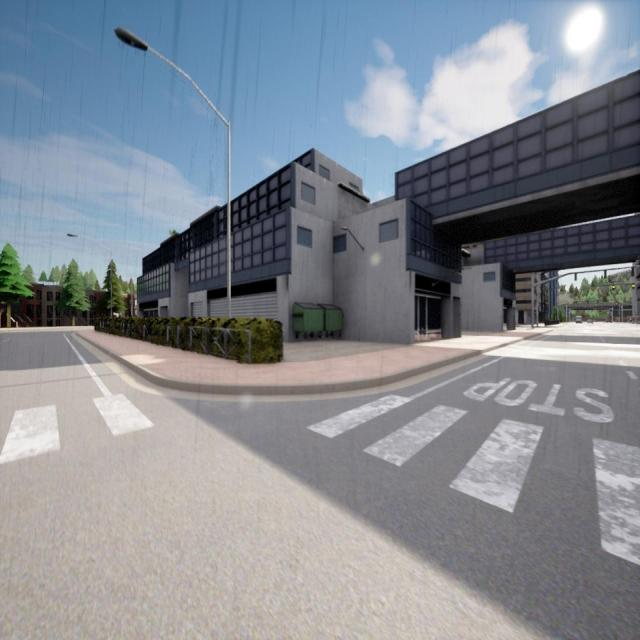Vehicle: (575, 316, 582, 324), (587, 318, 594, 324)
traffic_light: (631, 267, 634, 276), (574, 272, 577, 280), (632, 283, 635, 290), (604, 270, 607, 277), (612, 284, 615, 290)
